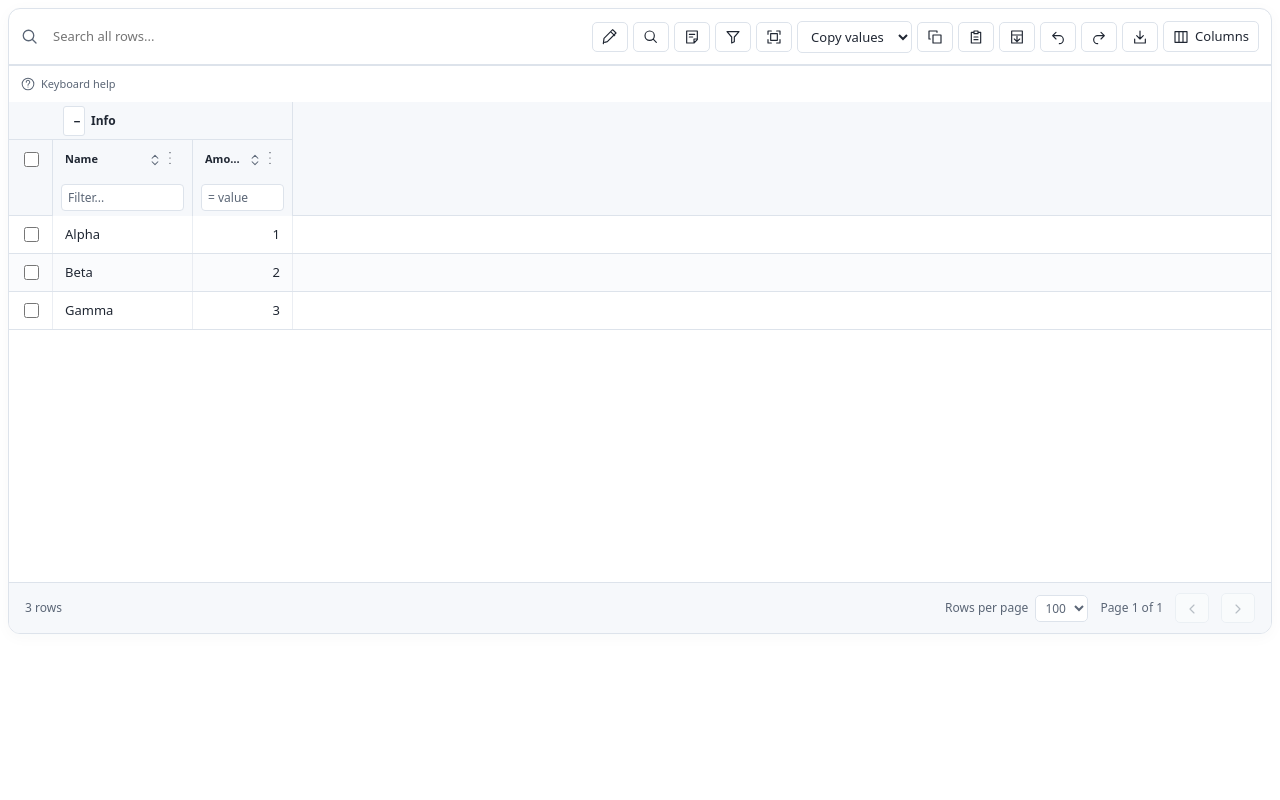
Scenario: native-friendly touch grid interaction › allows a real mouse double-click immediately after touch on a hybrid device
Click the cell "Alpha". click: (123, 234)
box: [53, 216, 193, 253]
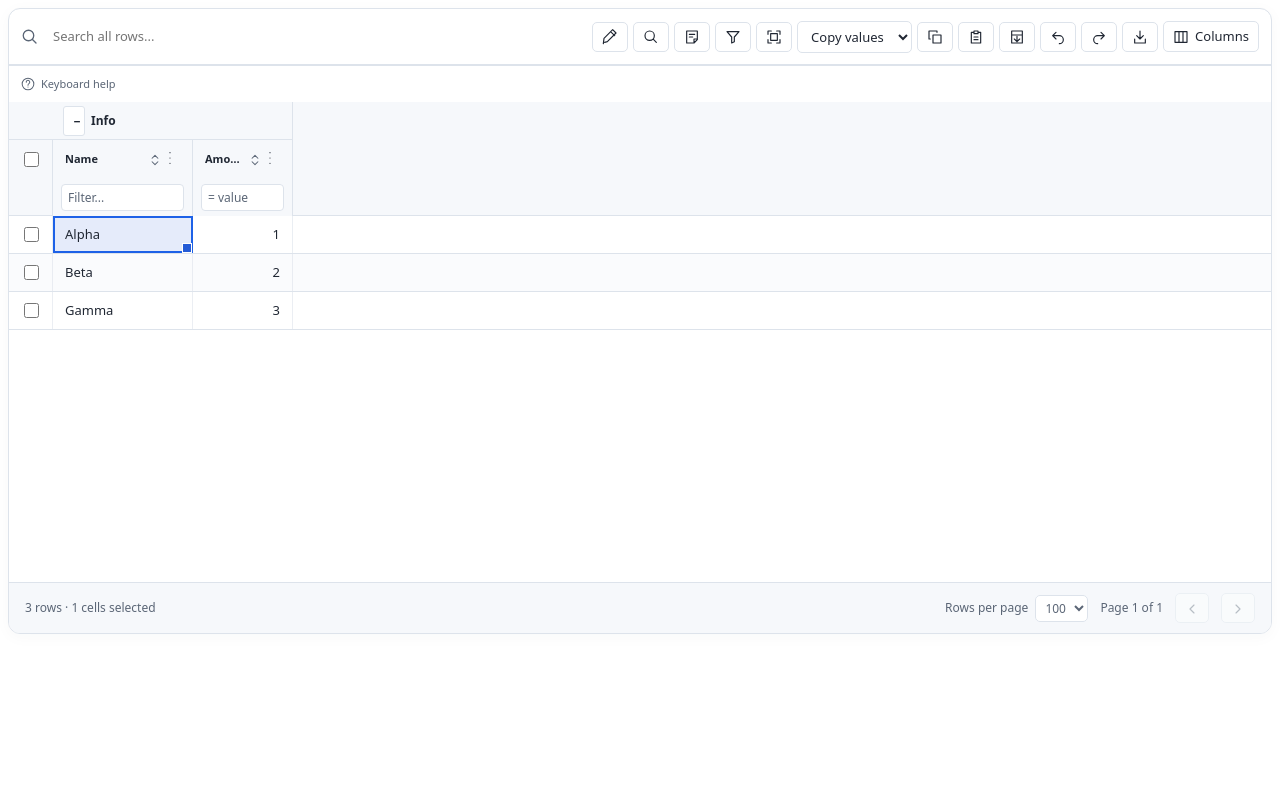
Press the mouse on the cell "Alpha" at (123, 234), box [53, 216, 193, 253]
Double-click the cell "Alpha" at (123, 234), box [53, 216, 193, 253]
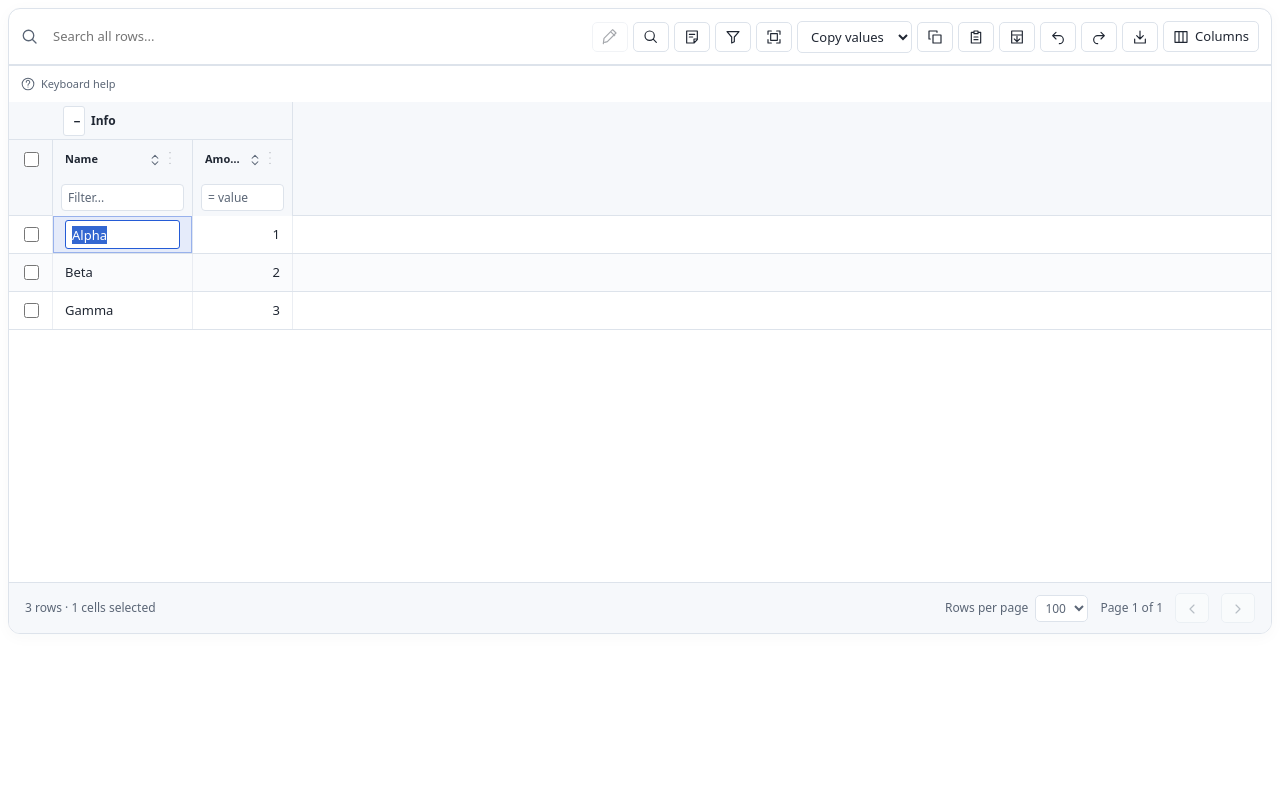
Expected: the field named "Edit Name row a" is shown, [65, 220, 180, 249]
